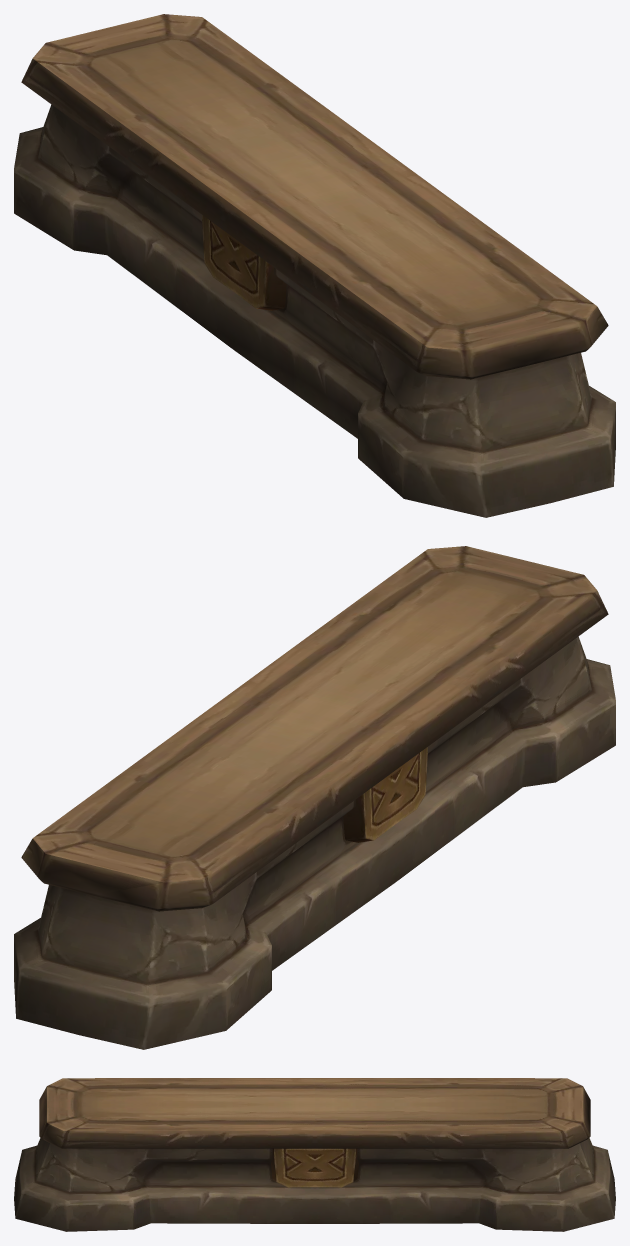
3 views of the same model, one above another, from view 1: azimuth 30°, elevation 25°; view 2: azimuth 150°, elevation 25°; view 3: azimuth 270°, elevation 25° (orthographic). The views are drawn at different scales.
Bounding box in the file's own units: 1.64 × 1.09 × 6.31.
Materials: 1 (1 with a texture image).
